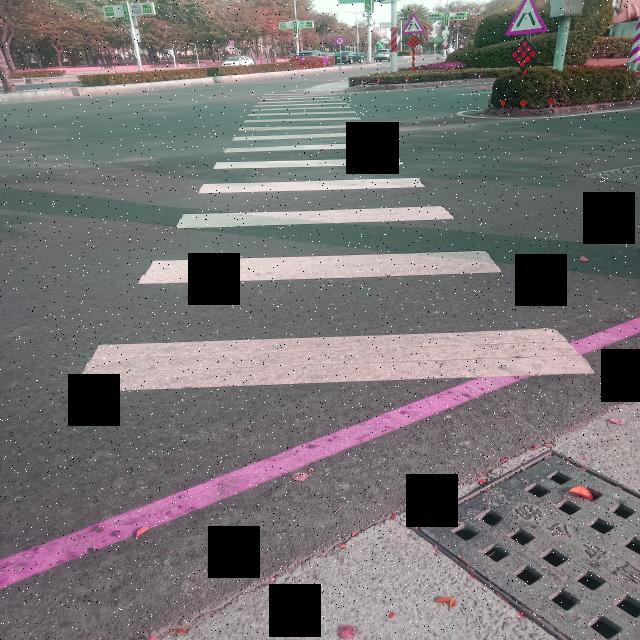zebra_crossing: (414, 324, 640, 414)
